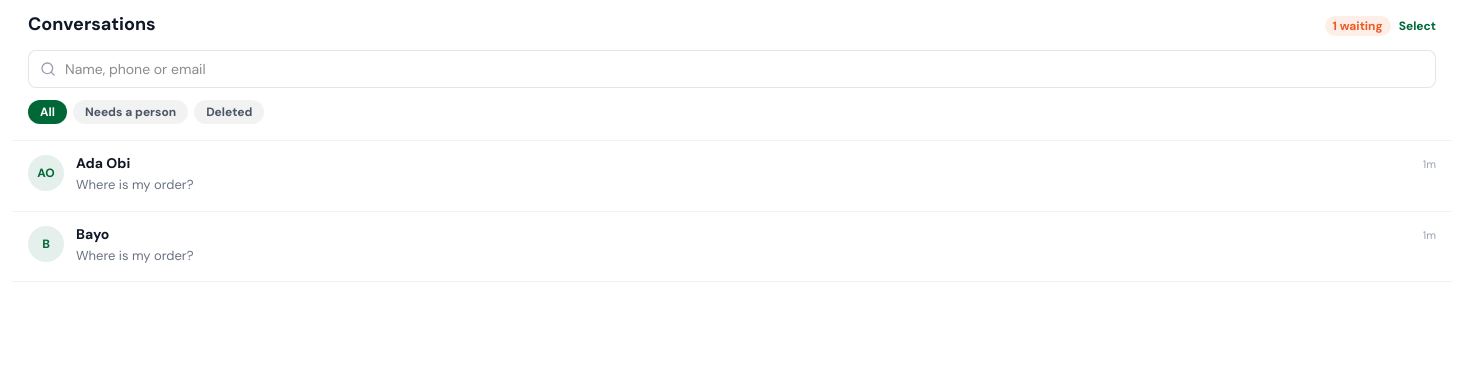
Scenario: ConversationRail › deleting › keeps a chat with orders ticked, and says why
Click the button "Select": (1417, 26) top-left (1399, 18), bottom-right (1436, 34)
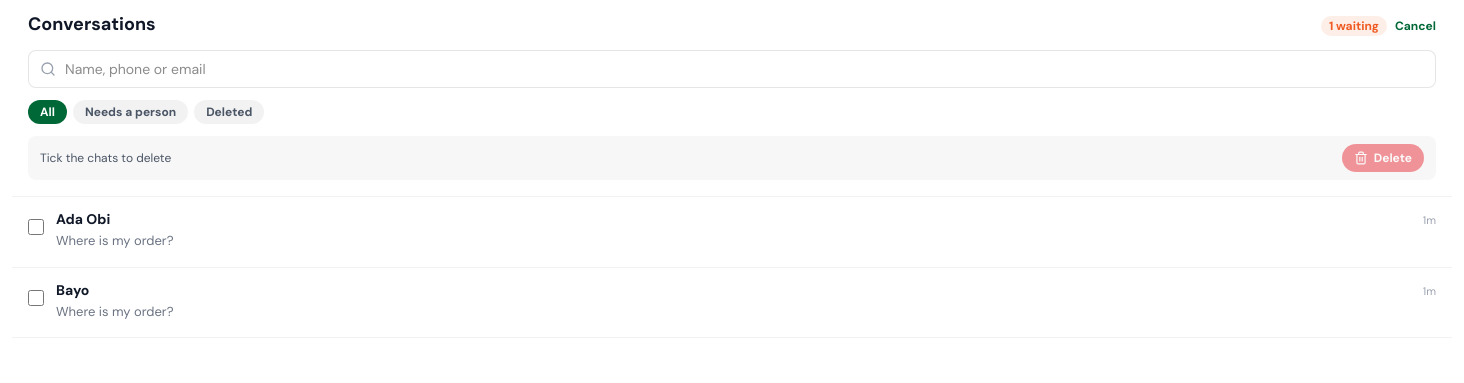
Click the checkbox named "Select Ada Obi": (83, 219) top-left (12, 197), bottom-right (1452, 268)
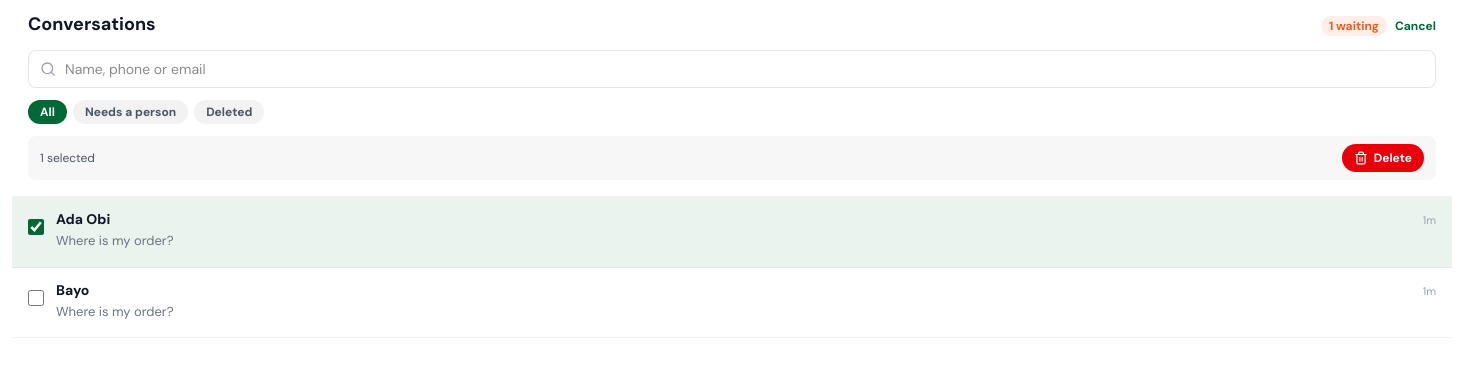
Click the checkbox named "Select Bayo": (73, 290) top-left (12, 268), bottom-right (1452, 338)
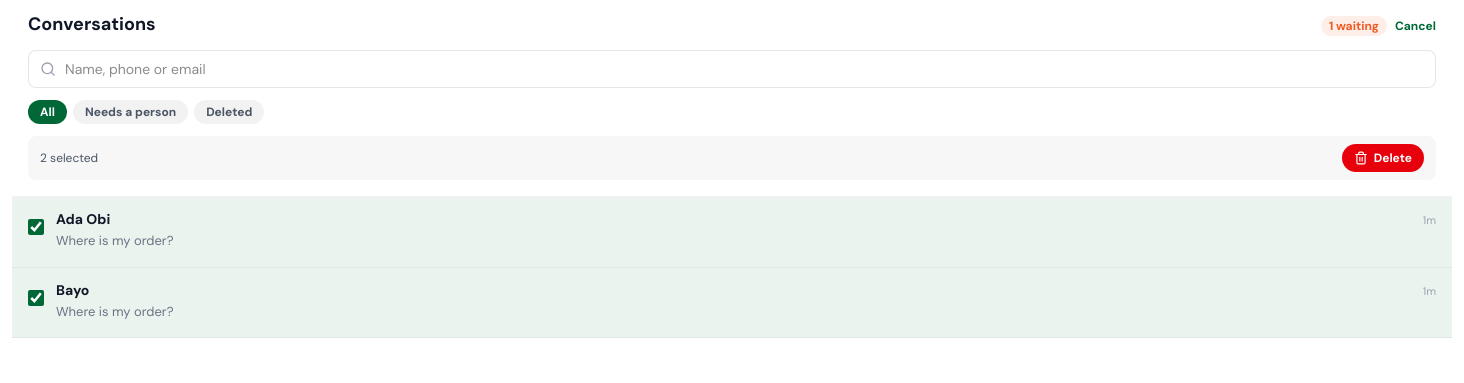
Click the button "Delete": (1383, 158) top-left (1342, 144), bottom-right (1424, 172)
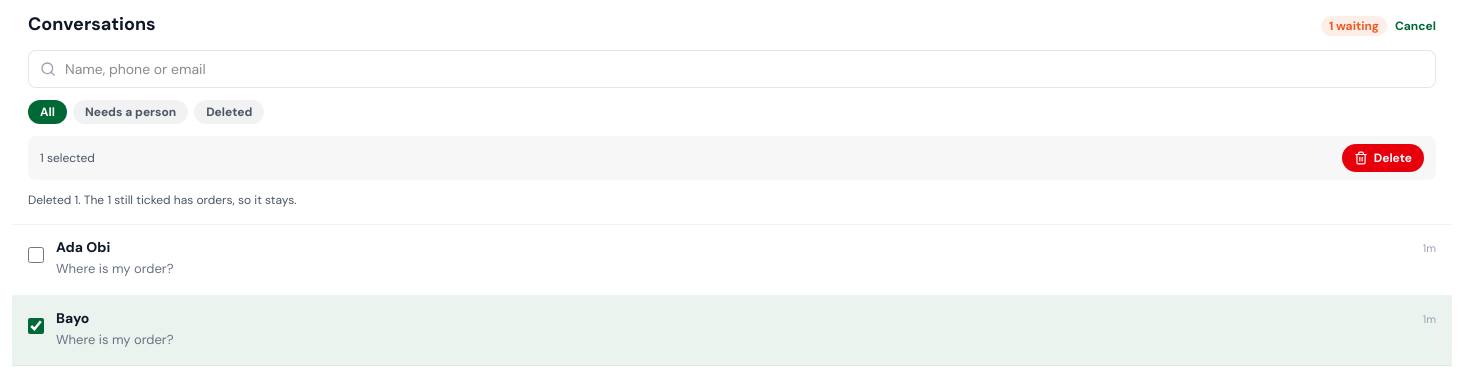
Result: the message reads "Deleted 1. The 1 still ticked has orders, so it stays." at top-left (28, 192), bottom-right (297, 208)
